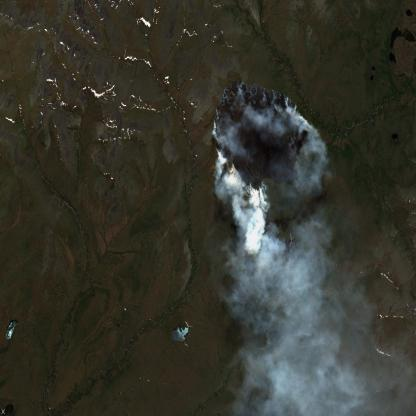fire: (210, 76, 316, 192), (242, 205, 273, 267), (282, 233, 301, 264)
